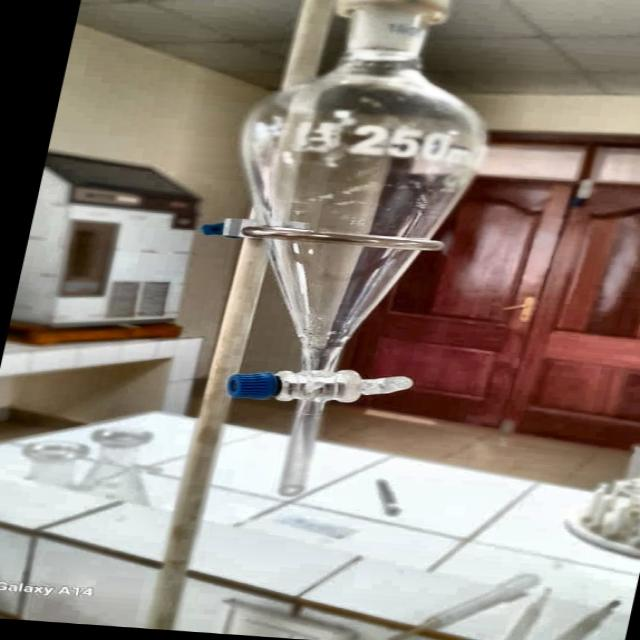Separating Funnel: (163, 0, 522, 508)
